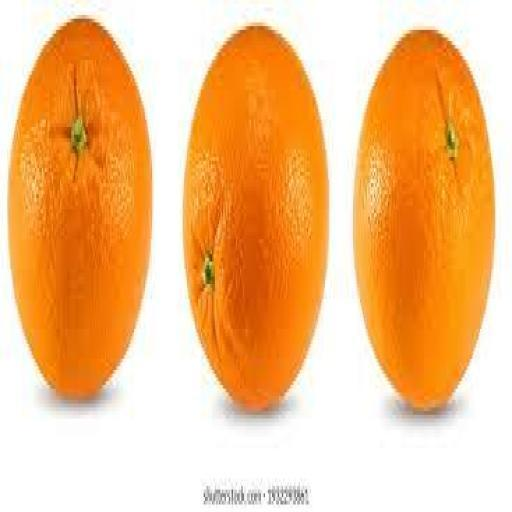orange: (183, 27, 327, 411), (9, 19, 152, 399), (353, 30, 495, 411)
